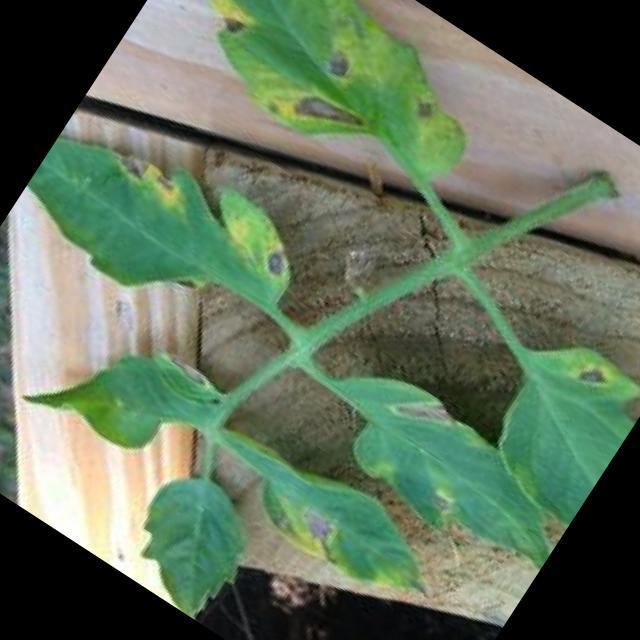Tomato Early blight leaf: (8, 93, 324, 369), (131, 0, 503, 214), (287, 339, 588, 590), (204, 416, 463, 624), (18, 292, 235, 494), (460, 317, 640, 527)
Tomato healthy leaf: (101, 453, 276, 627)
